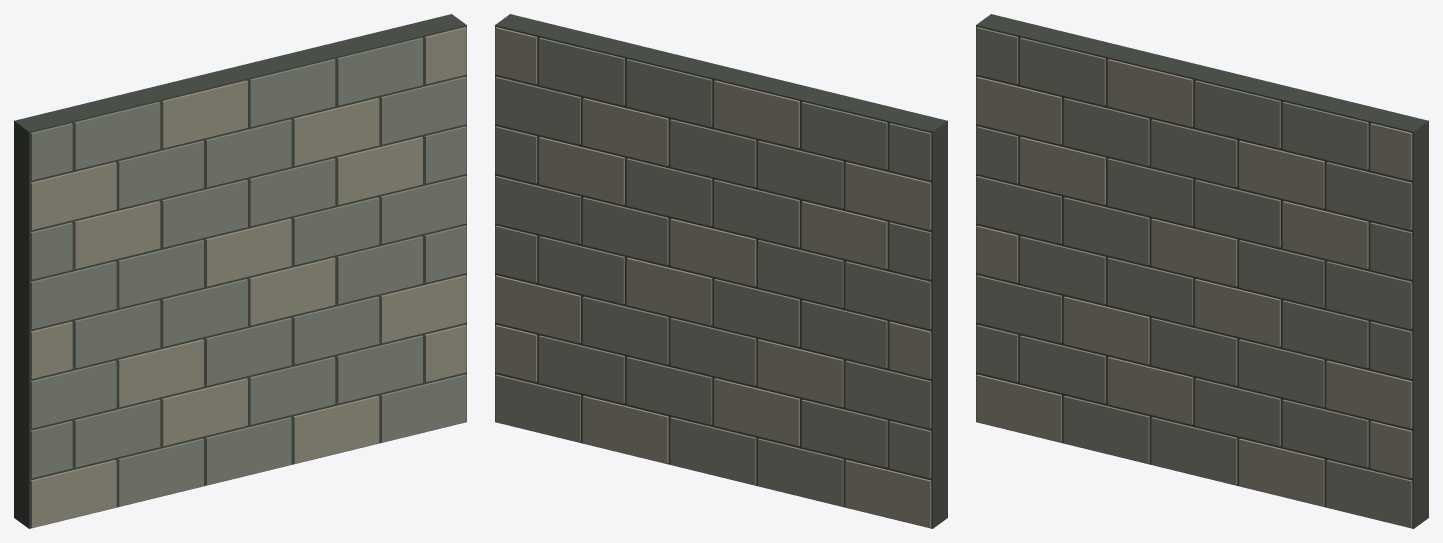
File: Wall_Solid_Fieldstone.glb
3 renders of one model, left to right at view 1: azimuth 30°, elevation 25°; view 2: azimuth 150°, elevation 25°; view 3: azimuth 330°, elevation 25°, orthographic.
Visible parts, largest first — view 1: Mortar, Stone_3_1_1, Stone_1_1_1, Stone_4_2_1, Stone_4_3_1, Stone_5_1_1, Stone_6_3_1, Stone_2_0_1, Stone_2_3_1, Stone_3_3_1, Stone_4_0_1, Stone_5_3_1 (+33 smaller); view 2: Mortar, Stone_3_1_-1, Stone_1_1_-1, Stone_4_2_-1, Stone_4_3_-1, Stone_5_1_-1, Stone_6_3_-1, Stone_2_0_-1, Stone_2_3_-1, Stone_3_3_-1, Stone_4_0_-1, Stone_5_3_-1 (+33 smaller); view 3: Mortar, Stone_3_4_1, Stone_1_4_1, Stone_4_1_1, Stone_4_2_1, Stone_5_4_1, Stone_6_1_1, Stone_2_1_1, Stone_2_4_1, Stone_3_2_1, Stone_4_4_1, Stone_5_2_1 (+33 smaller).
Part boxes in pixels (left/top/right/bottom): Mortar: left=14, top=14, right=466, bottom=528; Stone_3_1_1: left=74, top=300, right=160, bottom=368; Stone_1_1_1: left=74, top=399, right=160, bottom=467; Stone_4_2_1: left=205, top=218, right=291, bottom=286; Stone_4_3_1: left=293, top=197, right=379, bottom=265; Stone_5_1_1: left=74, top=201, right=160, bottom=268; Stone_6_3_1: left=293, top=98, right=379, bottom=165; Stone_2_0_1: left=30, top=360, right=116, bottom=428; Stone_2_3_1: left=293, top=296, right=379, bottom=364; Stone_3_3_1: left=249, top=257, right=335, bottom=325; Stone_4_0_1: left=30, top=261, right=116, bottom=329; Stone_5_3_1: left=249, top=158, right=335, bottom=226; Mortar: left=495, top=14, right=947, bottom=528; Stone_3_1_-1: left=801, top=300, right=887, bottom=368; Stone_1_1_-1: left=801, top=399, right=887, bottom=467; Stone_4_2_-1: left=670, top=218, right=756, bottom=286; Stone_4_3_-1: left=582, top=197, right=668, bottom=265; Stone_5_1_-1: left=801, top=201, right=887, bottom=268; Stone_6_3_-1: left=582, top=98, right=668, bottom=165; Stone_2_0_-1: left=845, top=360, right=931, bottom=428; Stone_2_3_-1: left=582, top=296, right=668, bottom=364; Stone_3_3_-1: left=626, top=257, right=712, bottom=325; Stone_4_0_-1: left=845, top=261, right=931, bottom=329; Stone_5_3_-1: left=626, top=158, right=712, bottom=226; Mortar: left=976, top=14, right=1428, bottom=528; Stone_3_4_1: left=1282, top=300, right=1368, bottom=368; Stone_1_4_1: left=1282, top=399, right=1368, bottom=467; Stone_4_1_1: left=1063, top=197, right=1149, bottom=265; Stone_4_2_1: left=1151, top=218, right=1237, bottom=286; Stone_5_4_1: left=1282, top=201, right=1368, bottom=268; Stone_6_1_1: left=1063, top=98, right=1149, bottom=165; Stone_2_1_1: left=1063, top=296, right=1149, bottom=364; Stone_2_4_1: left=1326, top=360, right=1412, bottom=428; Stone_3_2_1: left=1107, top=257, right=1193, bottom=325; Stone_4_4_1: left=1326, top=261, right=1412, bottom=329; Stone_5_2_1: left=1107, top=158, right=1193, bottom=226.
Bounding box in the file's own units: 3 × 2.6 × 0.21.
